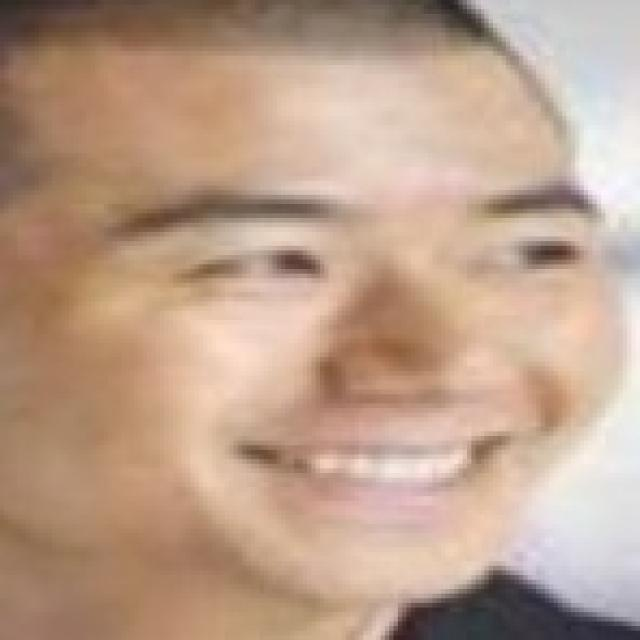no_mask: (30, 58, 606, 635)
